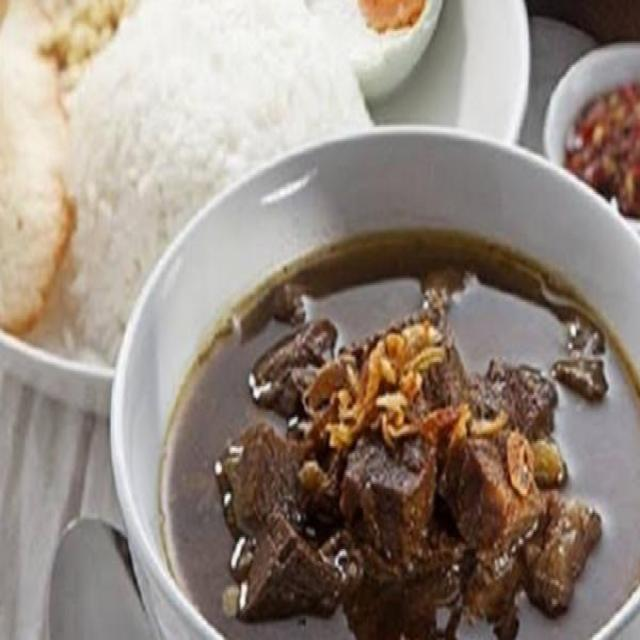Rawon: (189, 200, 634, 640)
